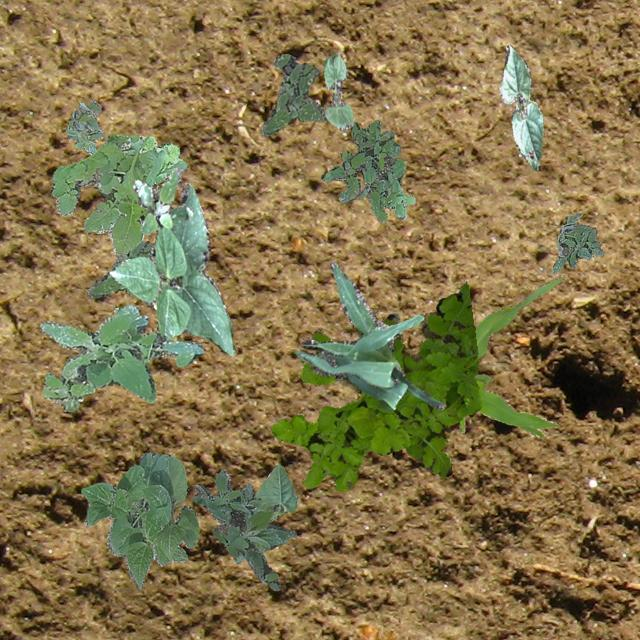crop: (295, 260, 443, 410), (109, 182, 234, 356), (458, 274, 564, 438), (80, 450, 198, 588), (234, 463, 296, 562), (498, 44, 542, 168), (322, 53, 352, 128)
weed: (268, 280, 481, 490), (39, 304, 202, 411), (50, 134, 186, 258), (192, 468, 296, 590), (320, 120, 414, 220), (260, 52, 326, 134), (132, 166, 192, 234), (86, 238, 152, 296), (550, 212, 604, 272), (64, 99, 104, 154)
